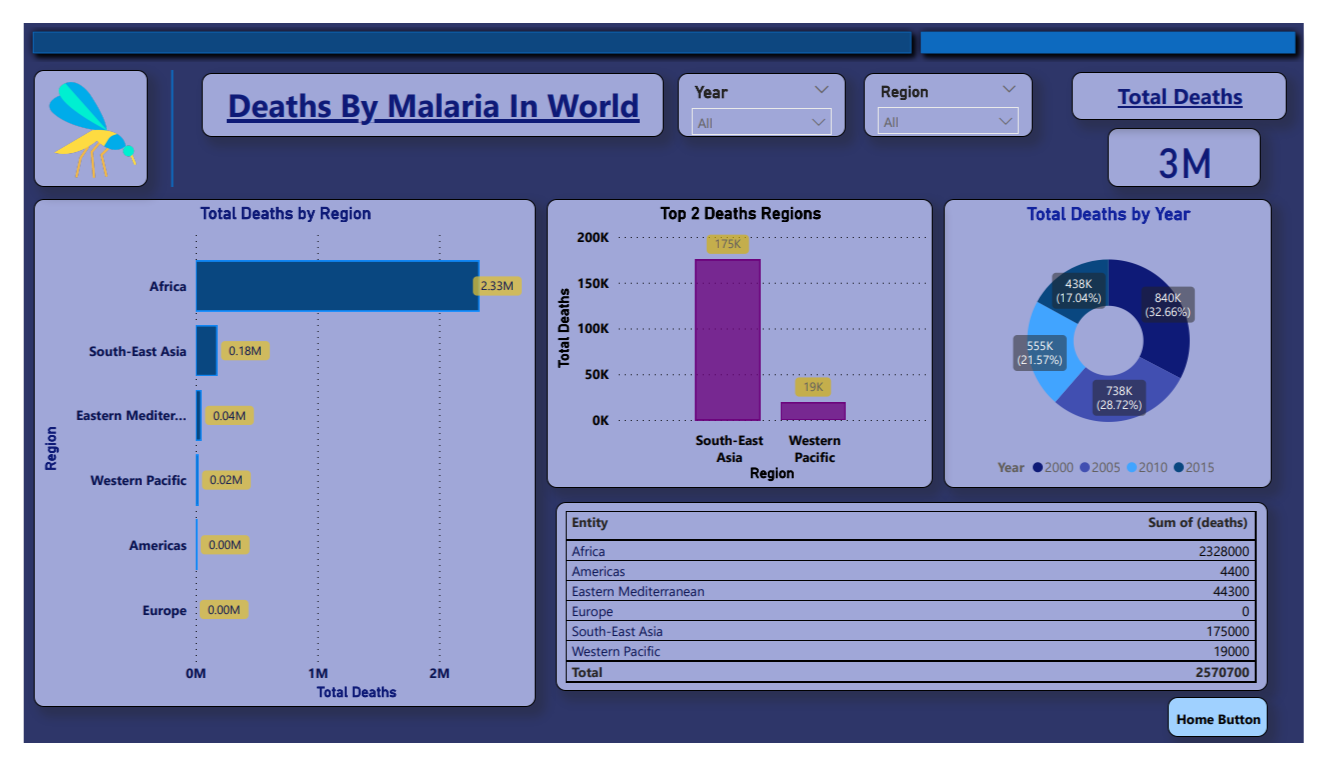

Layout of this report page (visuals, bound fields, positions):
{"tool":"powerbi","page":{"name":"Page 1","canvas":[1280,720],"ordinal":0},"visuals":[{"type":"clusteredBarChart","title":"Total Deaths by Region","fields":{"Category":["global-malaria-deaths-by-world-region.Entity"],"Y":["Sum(global-malaria-deaths-by-world-region. (deaths))"]},"box":[9.7,175.6,502.2,508.4],"z":0},{"type":"shape","box":[0,0,895.8,38.9],"z":1000},{"type":"shape","box":[889,0,391,38.9],"z":2000},{"type":"image","box":[9.7,46.7,113.8,117.7],"z":3000},{"type":"shape","box":[123.5,46.7,49.6,117.7],"z":4000},{"type":"textbox","box":[178,49.6,462,64.2],"z":5000},{"type":"slicer","fields":{"Values":["global-malaria-deaths-by-world-region.Year"]},"box":[653.6,49.6,168.3,64.2],"z":6000},{"type":"slicer","fields":{"Values":["global-malaria-deaths-by-world-region.Entity"]},"box":[840.4,49.6,168.3,64.2],"z":7000},{"type":"card","fields":{"Values":["Sum(global-malaria-deaths-by-world-region. (deaths))"]},"box":[1084.4,105.4,152.8,58.8],"z":8000},{"type":"textbox","box":[1047.5,49.2,215.1,47.4],"z":9000},{"type":"donutChart","title":"Total Deaths by Year","fields":{"Y":["Sum(global-malaria-deaths-by-world-region. (deaths))"],"Category":["global-malaria-deaths-by-world-region.Year"]},"box":[920.2,175.6,327.5,289.8],"z":10000},{"type":"clusteredColumnChart","title":"Top 2 Deaths Regions","fields":{"Category":["global-malaria-deaths-by-world-region.Entity"],"Y":["Sum(global-malaria-deaths-by-world-region. (deaths))"]},"box":[523.3,175.6,385.5,289.8],"z":11000},{"type":"tableEx","fields":{"Values":["global-malaria-deaths-by-world-region.Entity","Sum(global-malaria-deaths-by-world-region. (deaths))"]},"box":[532.1,479.4,712.1,188.8],"z":12000},{"type":"actionButton","box":[1144.1,674.3,100.1,39.5],"z":13000}]}

Visuals, with their boxes in screenshot pixels (x1, y1, x2, y2), scaled from the page's 1280x720 canvas onto the 1327x766 screenshot:
"Total Deaths by Region" clusteredBarChart: box=[10, 187, 531, 728]
shape: box=[0, 0, 929, 41]
shape: box=[922, 0, 1326, 41]
image: box=[10, 50, 128, 175]
shape: box=[128, 50, 179, 175]
textbox: box=[185, 53, 664, 121]
slicer - global-malaria-deaths-by-world-region.Year: box=[678, 53, 852, 121]
slicer - global-malaria-deaths-by-world-region.Entity: box=[871, 53, 1046, 121]
card - Sum(global-malaria-deaths-by-world-region. (deaths)): box=[1124, 112, 1283, 175]
textbox: box=[1086, 52, 1309, 103]
"Total Deaths by Year" donutChart: box=[954, 187, 1294, 495]
"Top 2 Deaths Regions" clusteredColumnChart: box=[543, 187, 942, 495]
tableEx - global-malaria-deaths-by-world-region.Entity x Sum(global-malaria-deaths-by-world-region. (deaths)): box=[552, 510, 1290, 711]
actionButton: box=[1186, 717, 1290, 759]
